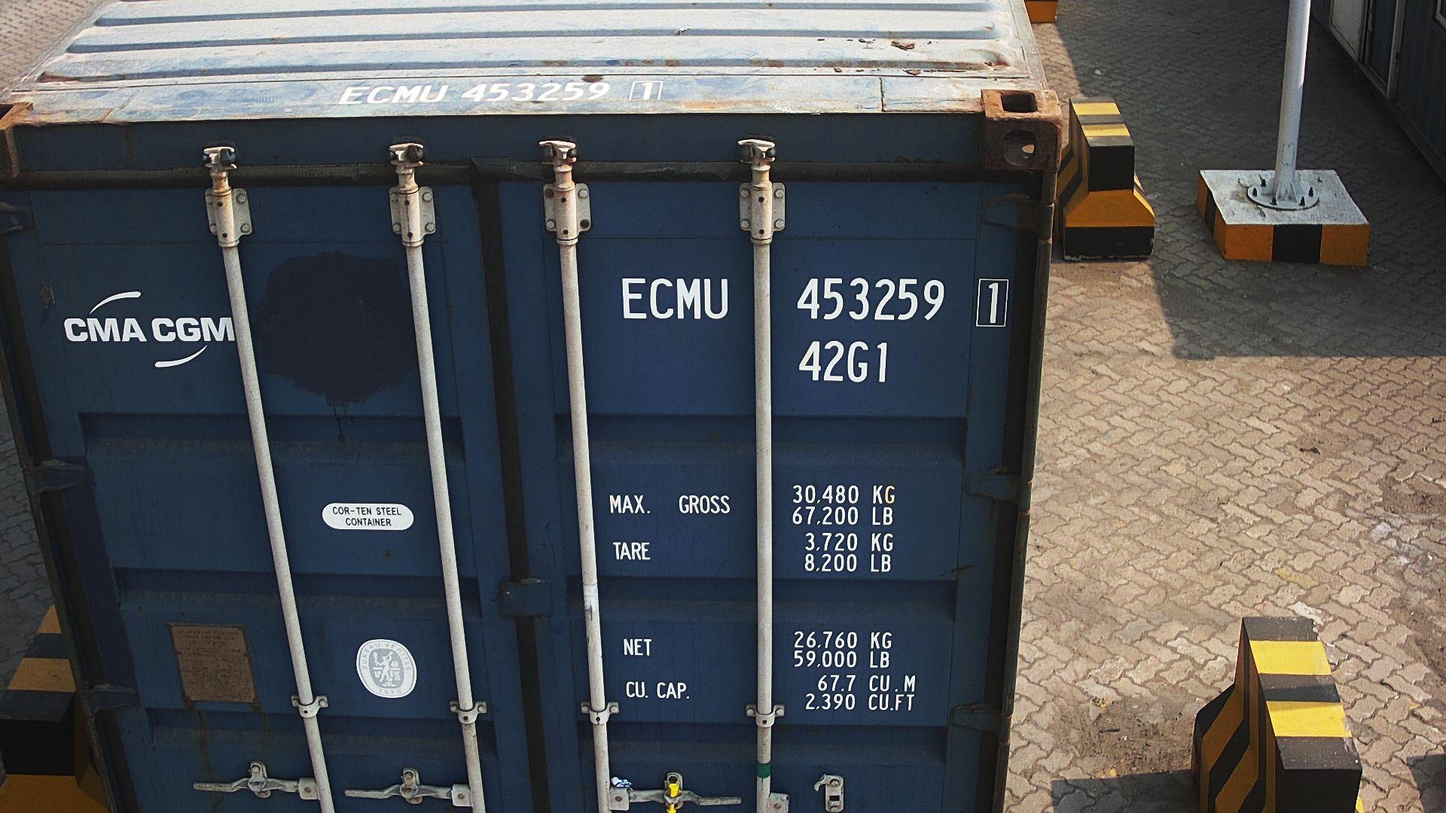container-numbers: (618, 271, 1011, 329), (329, 78, 671, 106), (796, 337, 895, 386)
